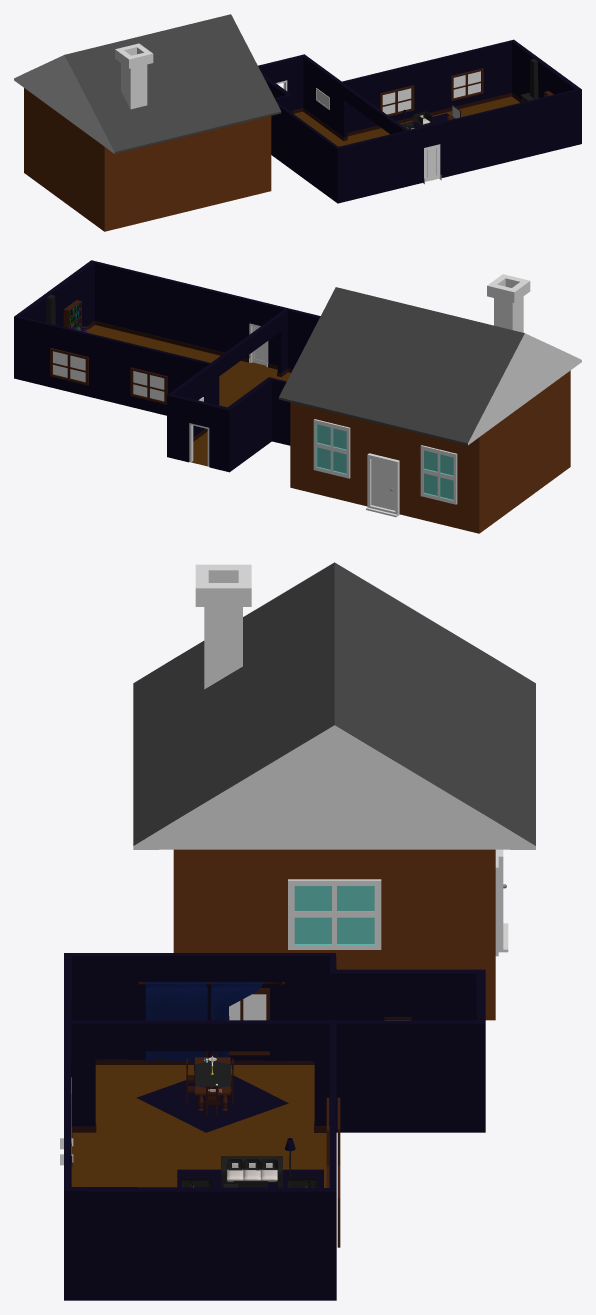
File: Casas.fbx
3 views of the same model, one above another, from view 1: azimuth 30°, elevation 25°; view 2: azimuth 150°, elevation 25°; view 3: azimuth 270°, elevation 25° (orthographic). The views are drawn at different scales.
Parts seen in each view (by area): view 1: Casa_1, Casa_de_?; view 2: Casa_1, Casa_de_?; view 3: Casa_1, Casa_de_?.
Boxes of the visible parts, <box> form: Casa_1: <box>14,14,281,231</box>; Casa_de_?: <box>258,39,581,203</box>; Casa_1: <box>278,274,581,533</box>; Casa_de_?: <box>14,260,320,472</box>; Casa_1: <box>133,562,535,1020</box>; Casa_de_?: <box>60,953,485,1300</box>.
Bounding box in the file's own units: 5020 × 1751 × 2297.
